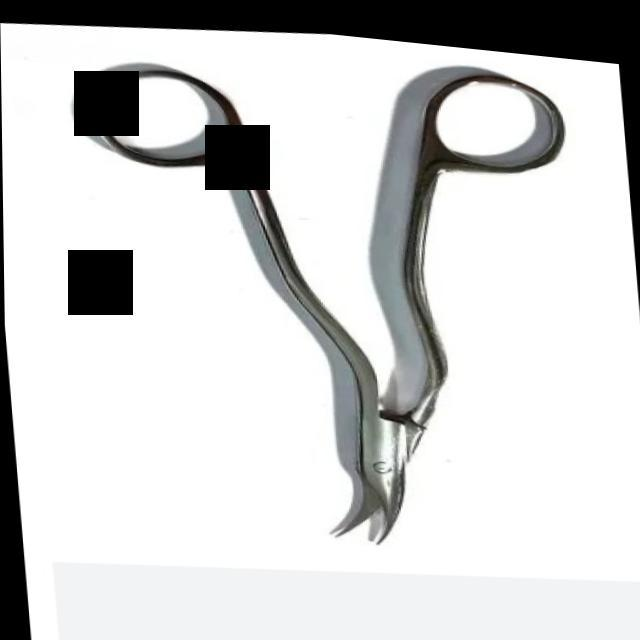Stapler Remover: (60, 14, 610, 576)
